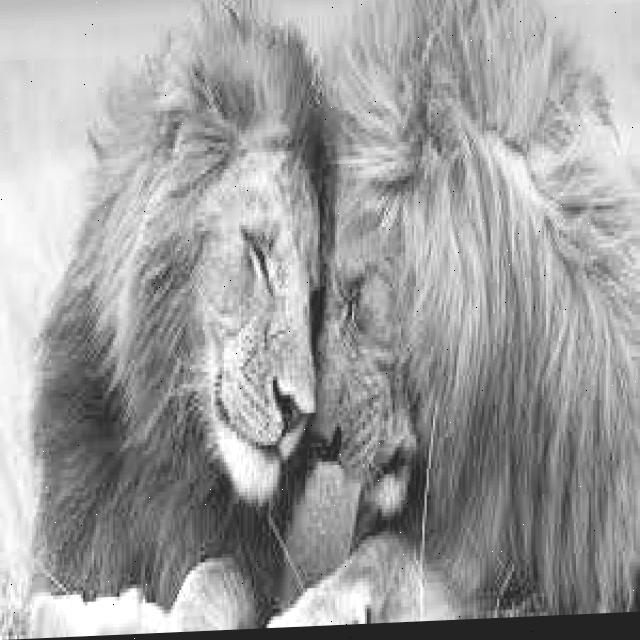Lion: (63, 25, 325, 531)
